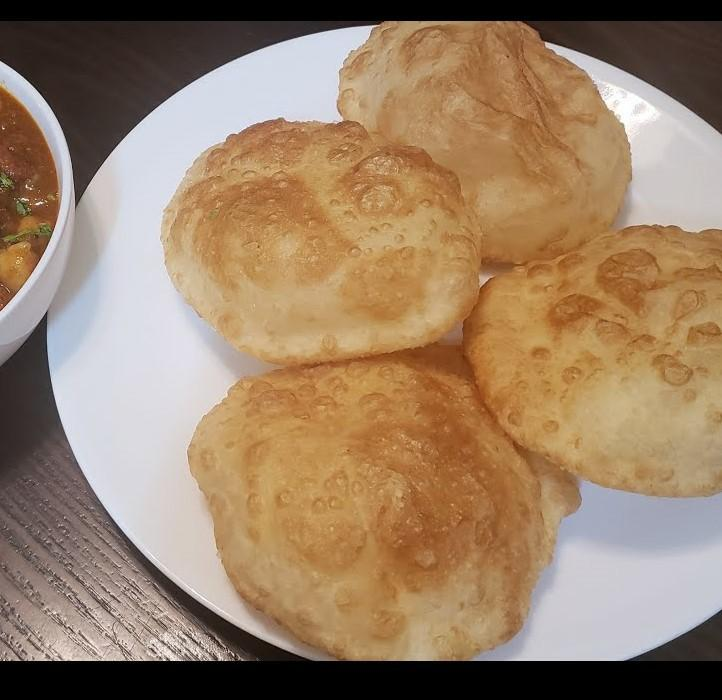Bhatura: (185, 345, 581, 662), (162, 116, 482, 365), (338, 20, 631, 263), (464, 224, 722, 498)
